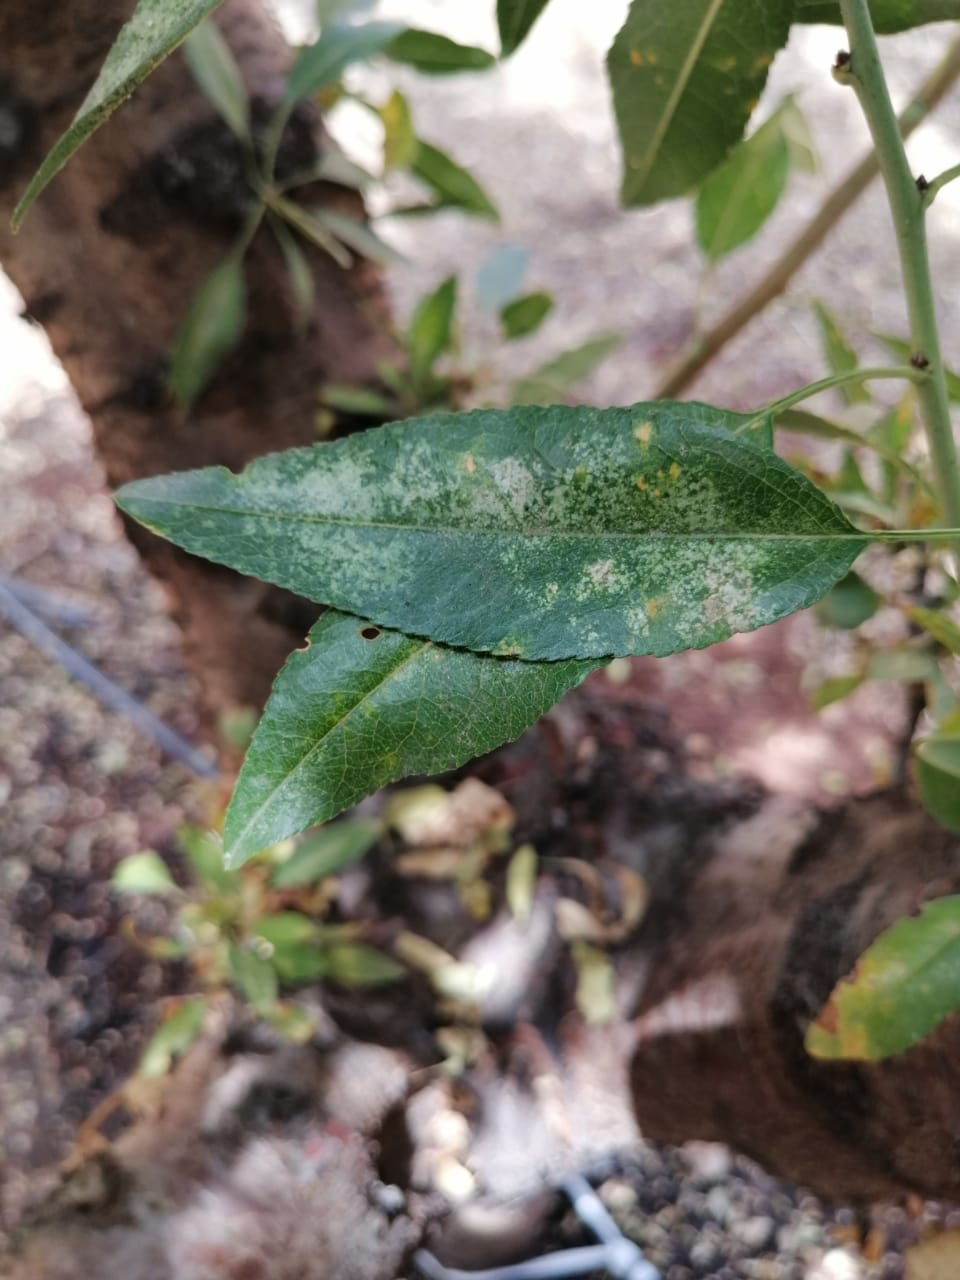faux tigre: (118, 404, 868, 661)
